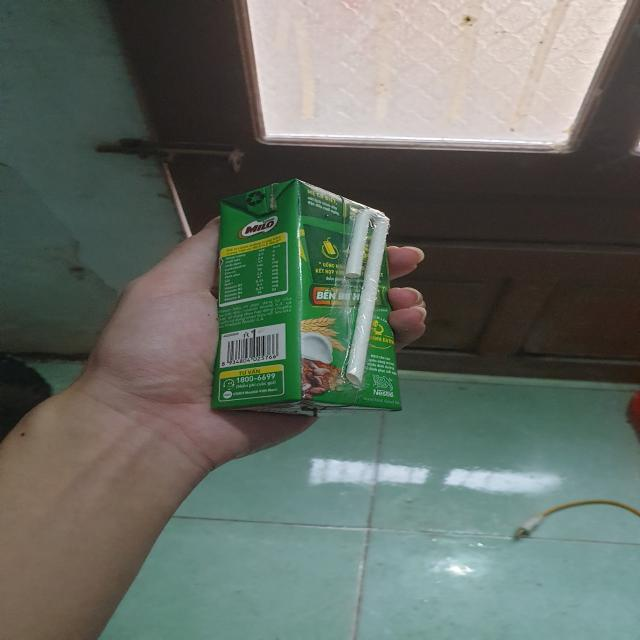Milo: (215, 182, 399, 409)
